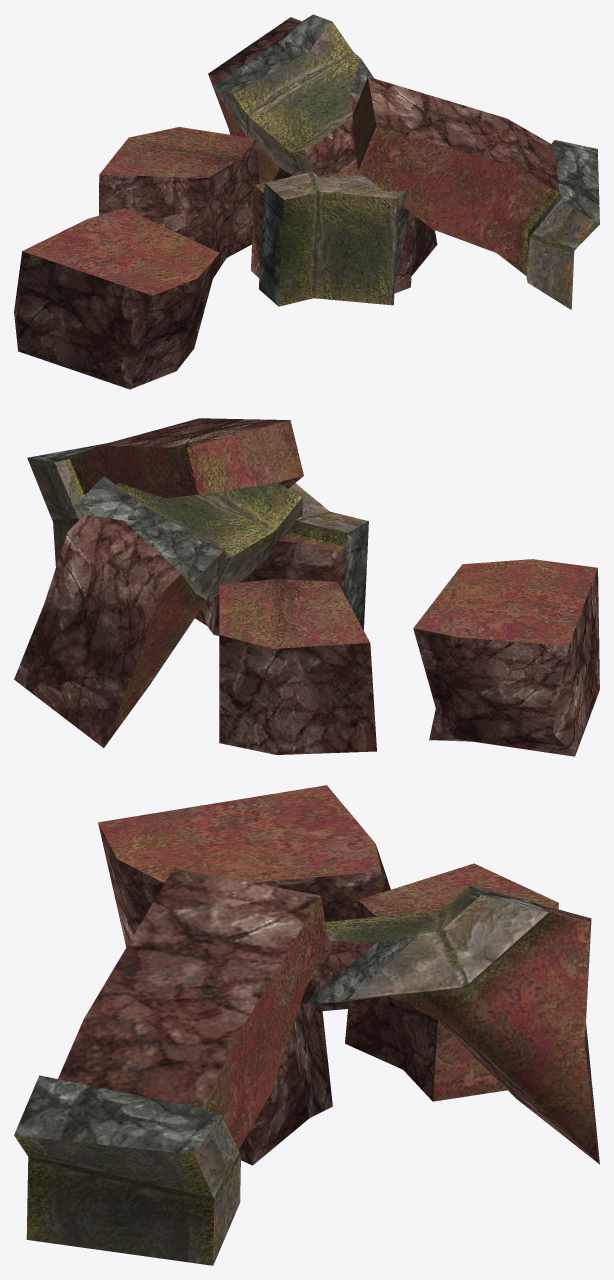
The model's file is fortressa_wall_bk03.fbx.
The picture shows the model from 3 angles, top to bottom: view 1: azimuth 30°, elevation 25°; view 2: azimuth 150°, elevation 25°; view 3: azimuth 270°, elevation 25°; orthographic projection. The views are drawn at different scales.
Parts seen in each view (by area): view 1: fortressA_wall_bk03; view 2: fortressA_wall_bk03; view 3: fortressA_wall_bk03.
Part boxes in pixels (x1,y1,x2,y2): fortressA_wall_bk03: [14, 14, 599, 389]; fortressA_wall_bk03: [14, 418, 599, 756]; fortressA_wall_bk03: [14, 785, 599, 1265].
Bounding box in the file's own units: 10.74 × 3.92 × 6.97.
